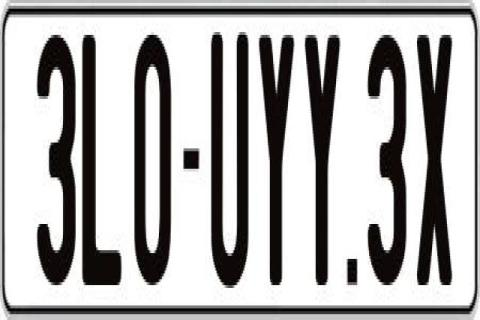0: (36, 35, 80, 303), (367, 35, 409, 294), (133, 35, 171, 291)
L: (80, 29, 123, 291)
U: (209, 29, 252, 291)
X: (415, 32, 457, 294)
Y: (258, 26, 296, 282), (302, 32, 338, 296)
